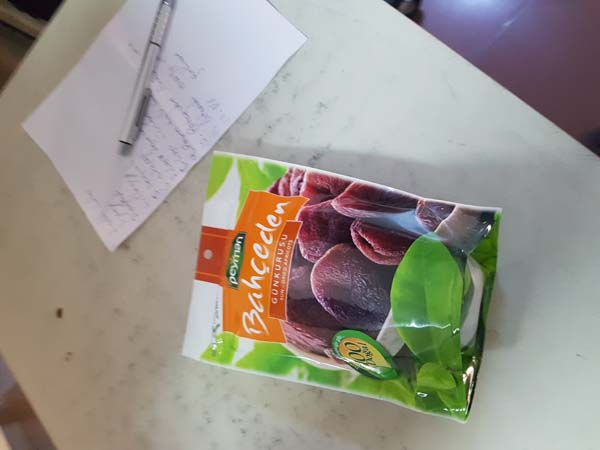bahcedengunkurusu: (182, 145, 507, 423)
